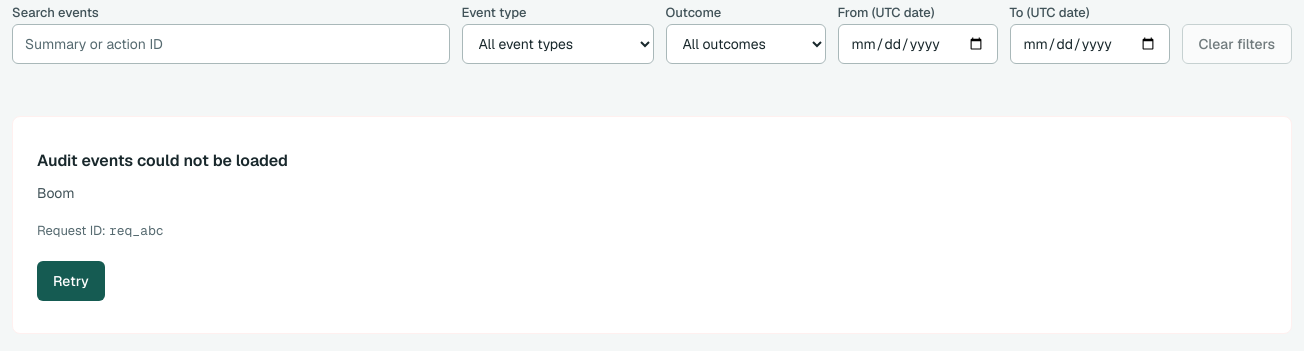
AuditLog › shows an error with request id and retries on demand
Check: the heading "Audit events could not be loaded" is shown, box top-left (37, 150), bottom-right (288, 171)
Check: the text "req_abc" is shown, box top-left (109, 222), bottom-right (164, 239)
Click the button "Retry": (71, 281) top-left (37, 261), bottom-right (105, 301)
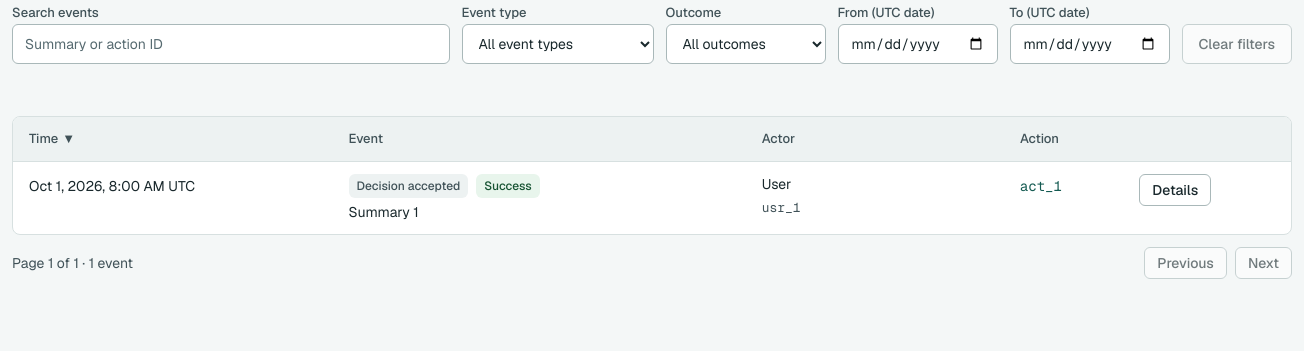
Check: the number of rows is 2, box top-left (13, 117), bottom-right (1291, 162); top-left (13, 162), bottom-right (1291, 234)
